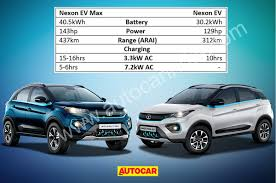Tata Nexon: (137, 83, 274, 157), (3, 82, 133, 156)
